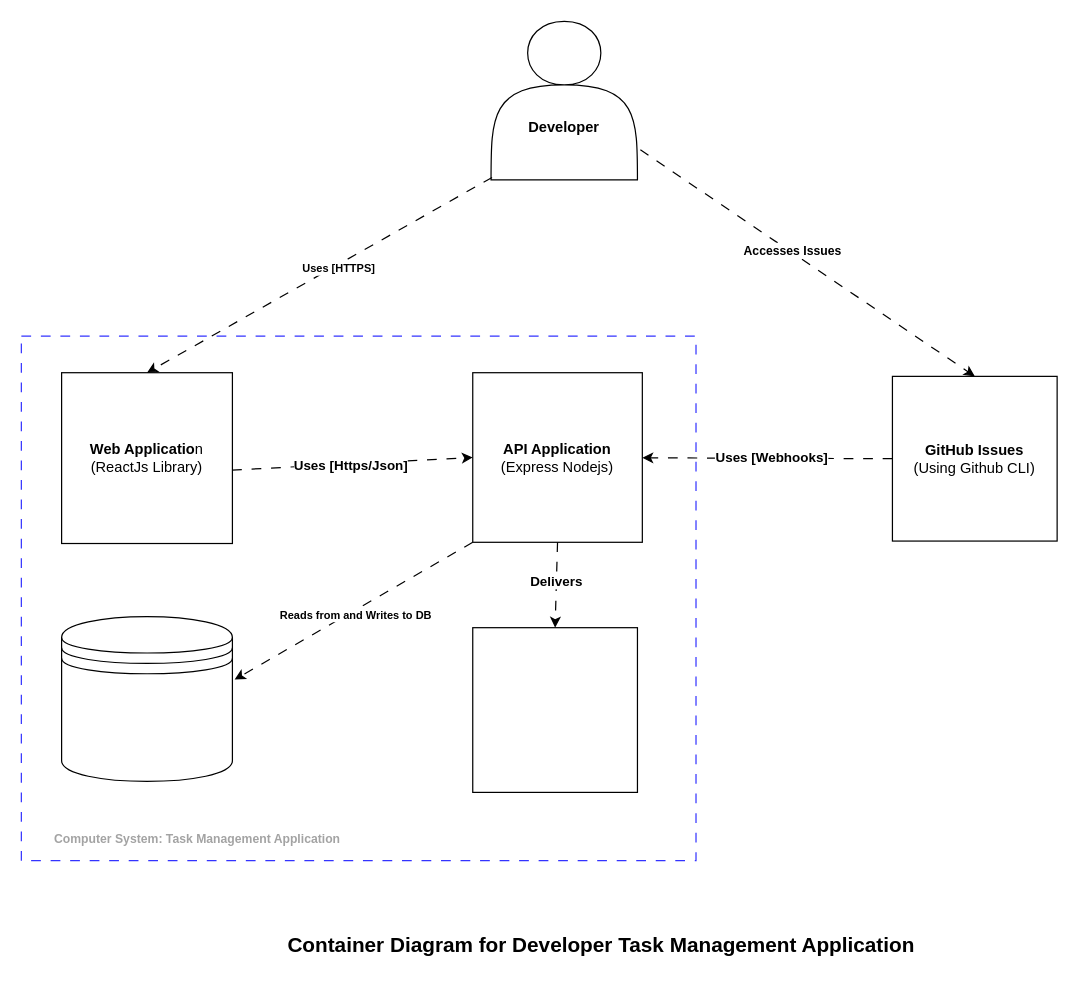
The diagram is 1078 pixels wide and 986 high, and some of its shapes have lost their labels. Here are the shapes that lost their labels. From the top down, the box of each, then its label:
(60, 615, 232, 781): Database/ Persistent Storage
(472, 626, 637, 792): LLM API Application (Uses various AI models for task extraction)
